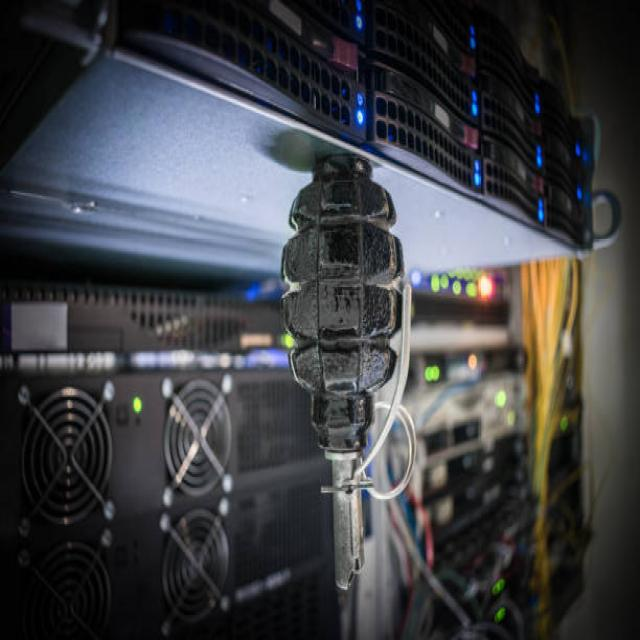grenade: (277, 137, 421, 603)
